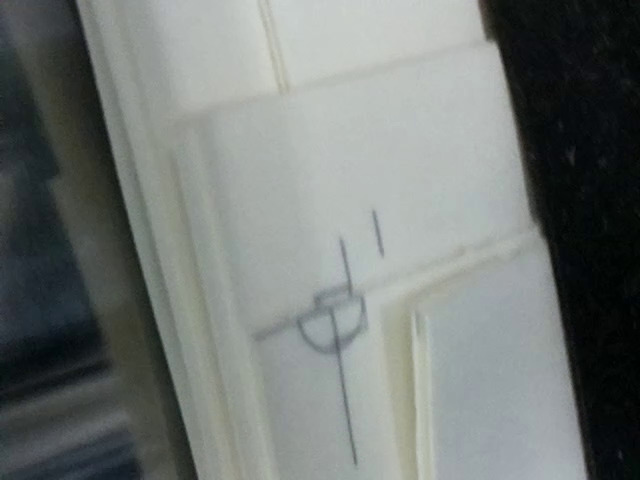misaligned: (249, 233, 377, 361)
